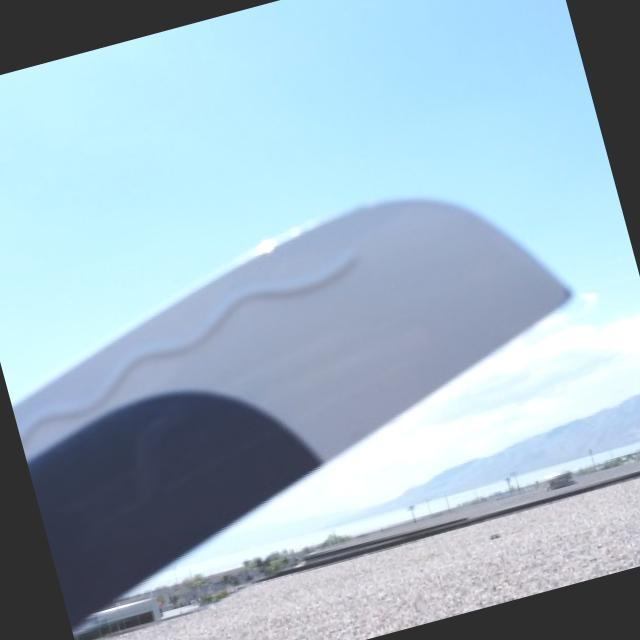healthy: (15, 198, 565, 623)
